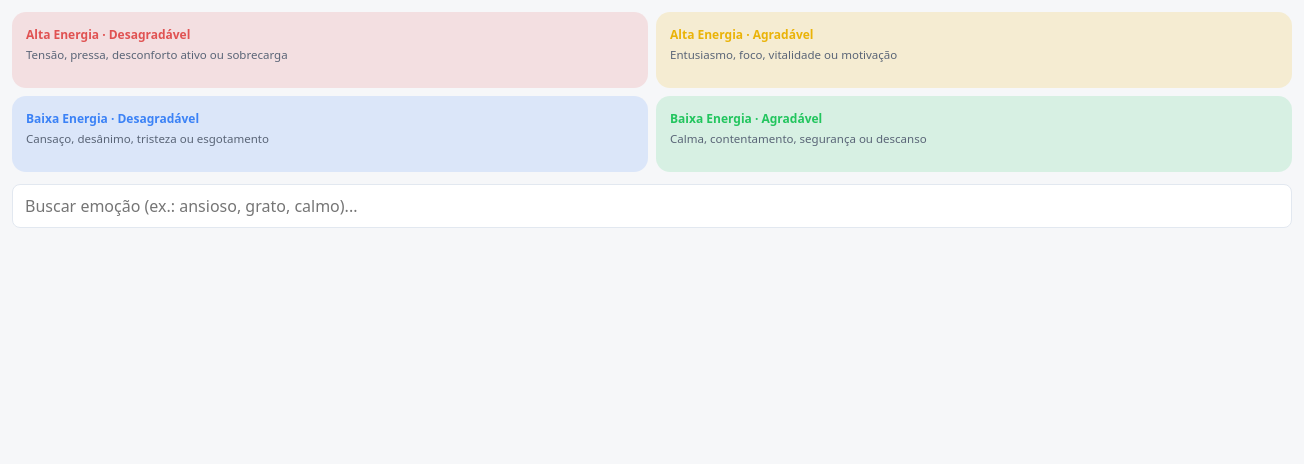
Test: Matriz Emocional 2D (EmotionMatrix) › deve impedir a seleção de mais de 3 emoções no mesmo check-in
This screenshot has width=1304, height=464.
Click the button "Alta Energia · Desagradável".
click(108, 34)  # box [12,12,648,88]
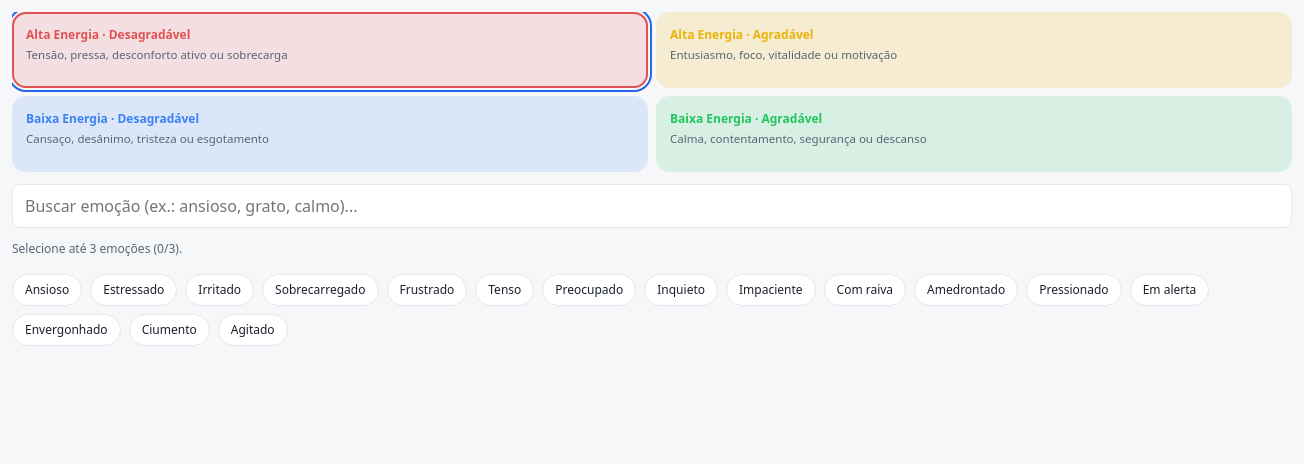
Click the button "Ansioso".
click(47, 290)  # box [12,274,82,306]
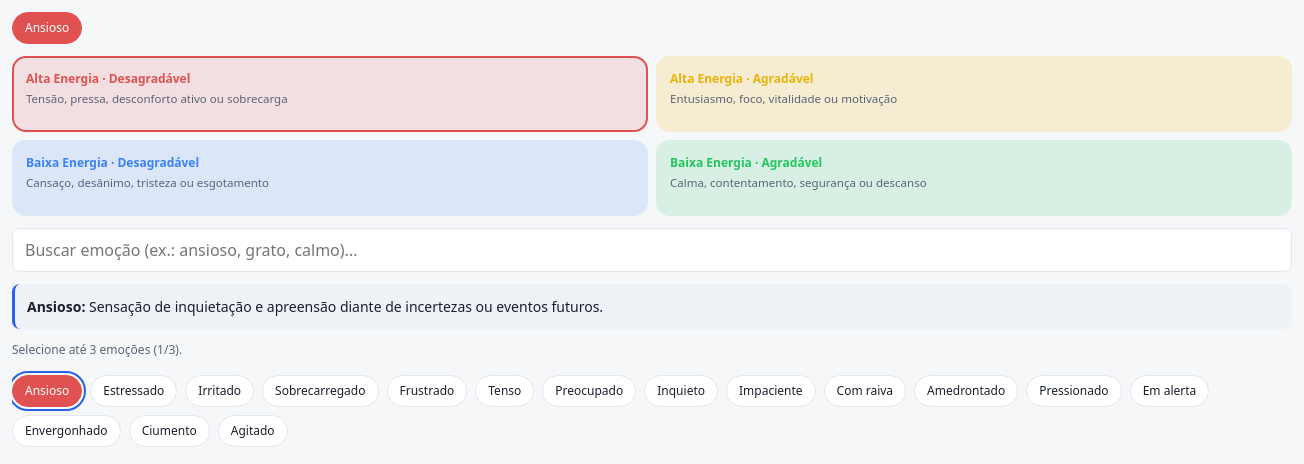
Click the button "Tenso".
click(505, 391)  # box [475,375,534,407]
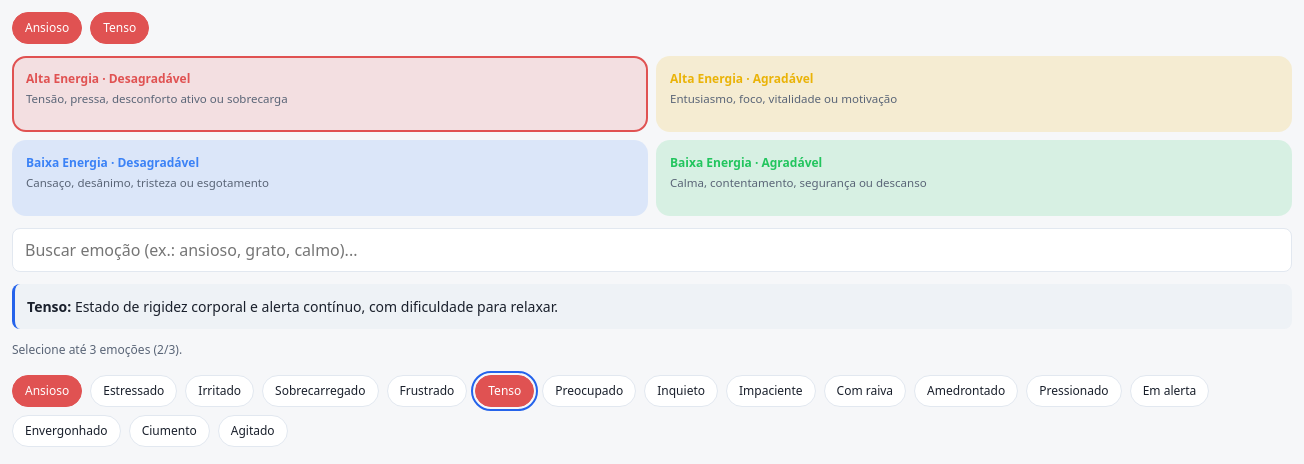
Click the button "Irritado".
click(220, 391)  # box [185,375,254,407]
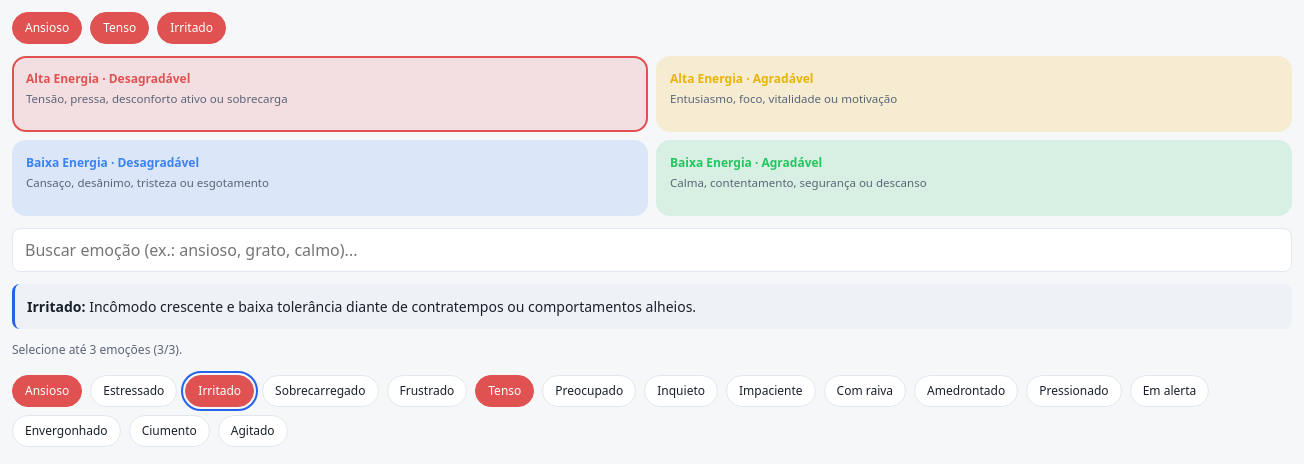
Check: the button "Frustrado" is disabled, box [386,375,467,407]
Check: the text "Selecione até 3 emoções (3/3)." is shown, box [12,341,182,358]
